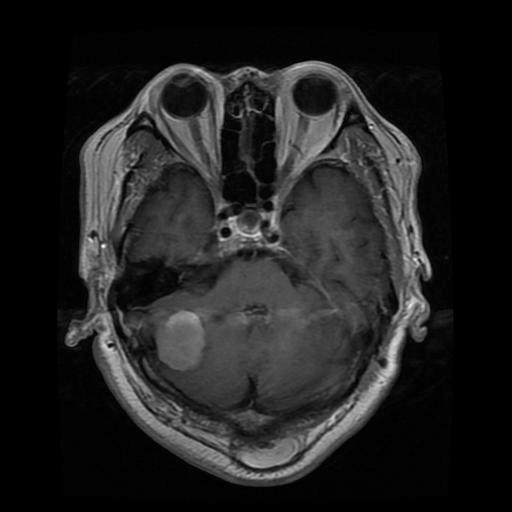Tumour-Meningioma: (126, 304, 237, 384)
